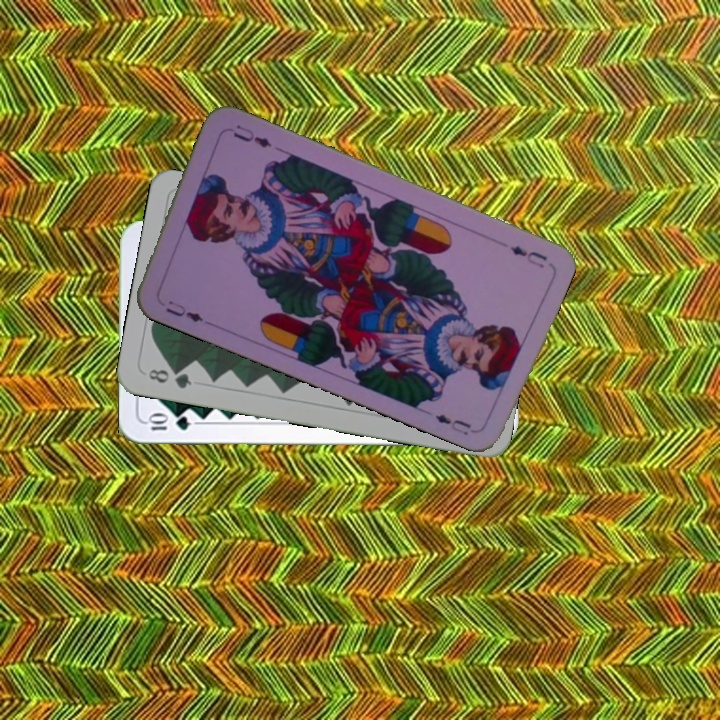EU: (162, 296, 206, 325), (506, 241, 550, 270)
G10: (143, 413, 193, 433)
G8: (144, 365, 195, 392)
